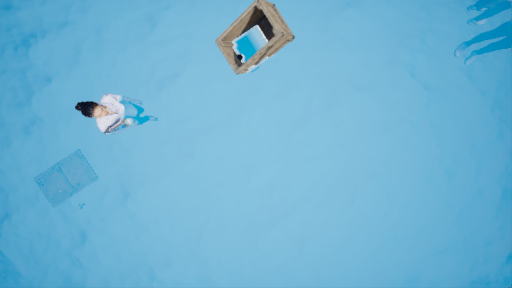person: (72, 86, 173, 139)
